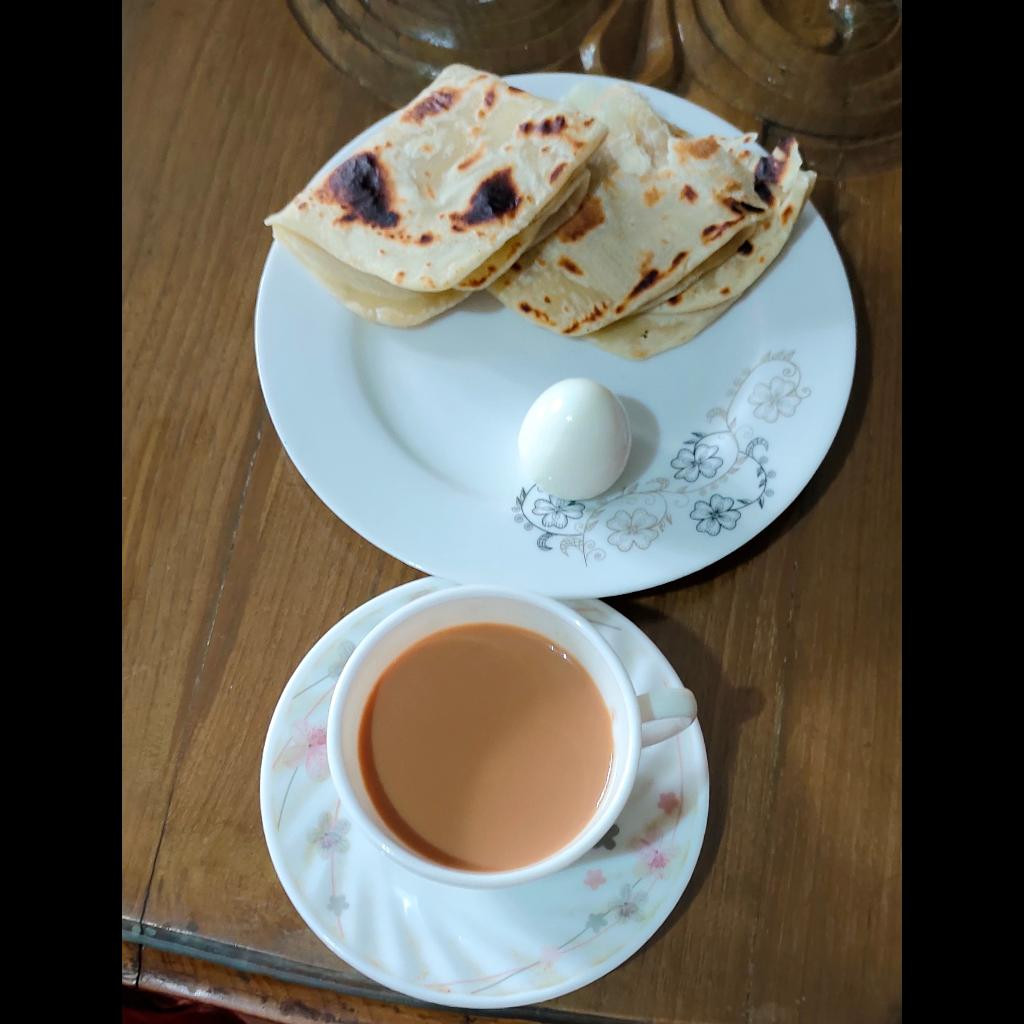cha: (357, 622, 612, 870)
egg-poached: (514, 373, 631, 502)
ruti: (263, 55, 818, 373)
